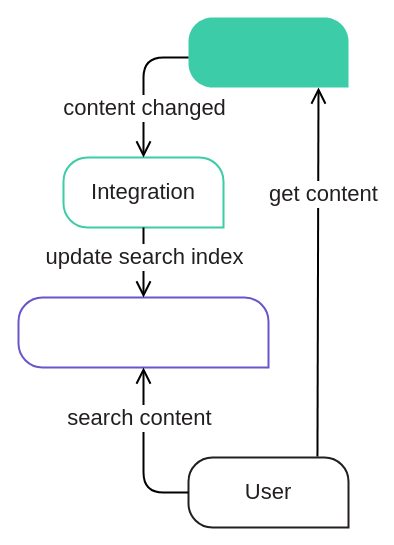
Some shapes in this 394 by 545 pixel diagram are drawn without their labels. Each missing label, with the centre of its shape:
Kontent.ai: the point at 268,52
Search provider: the point at 143,332
